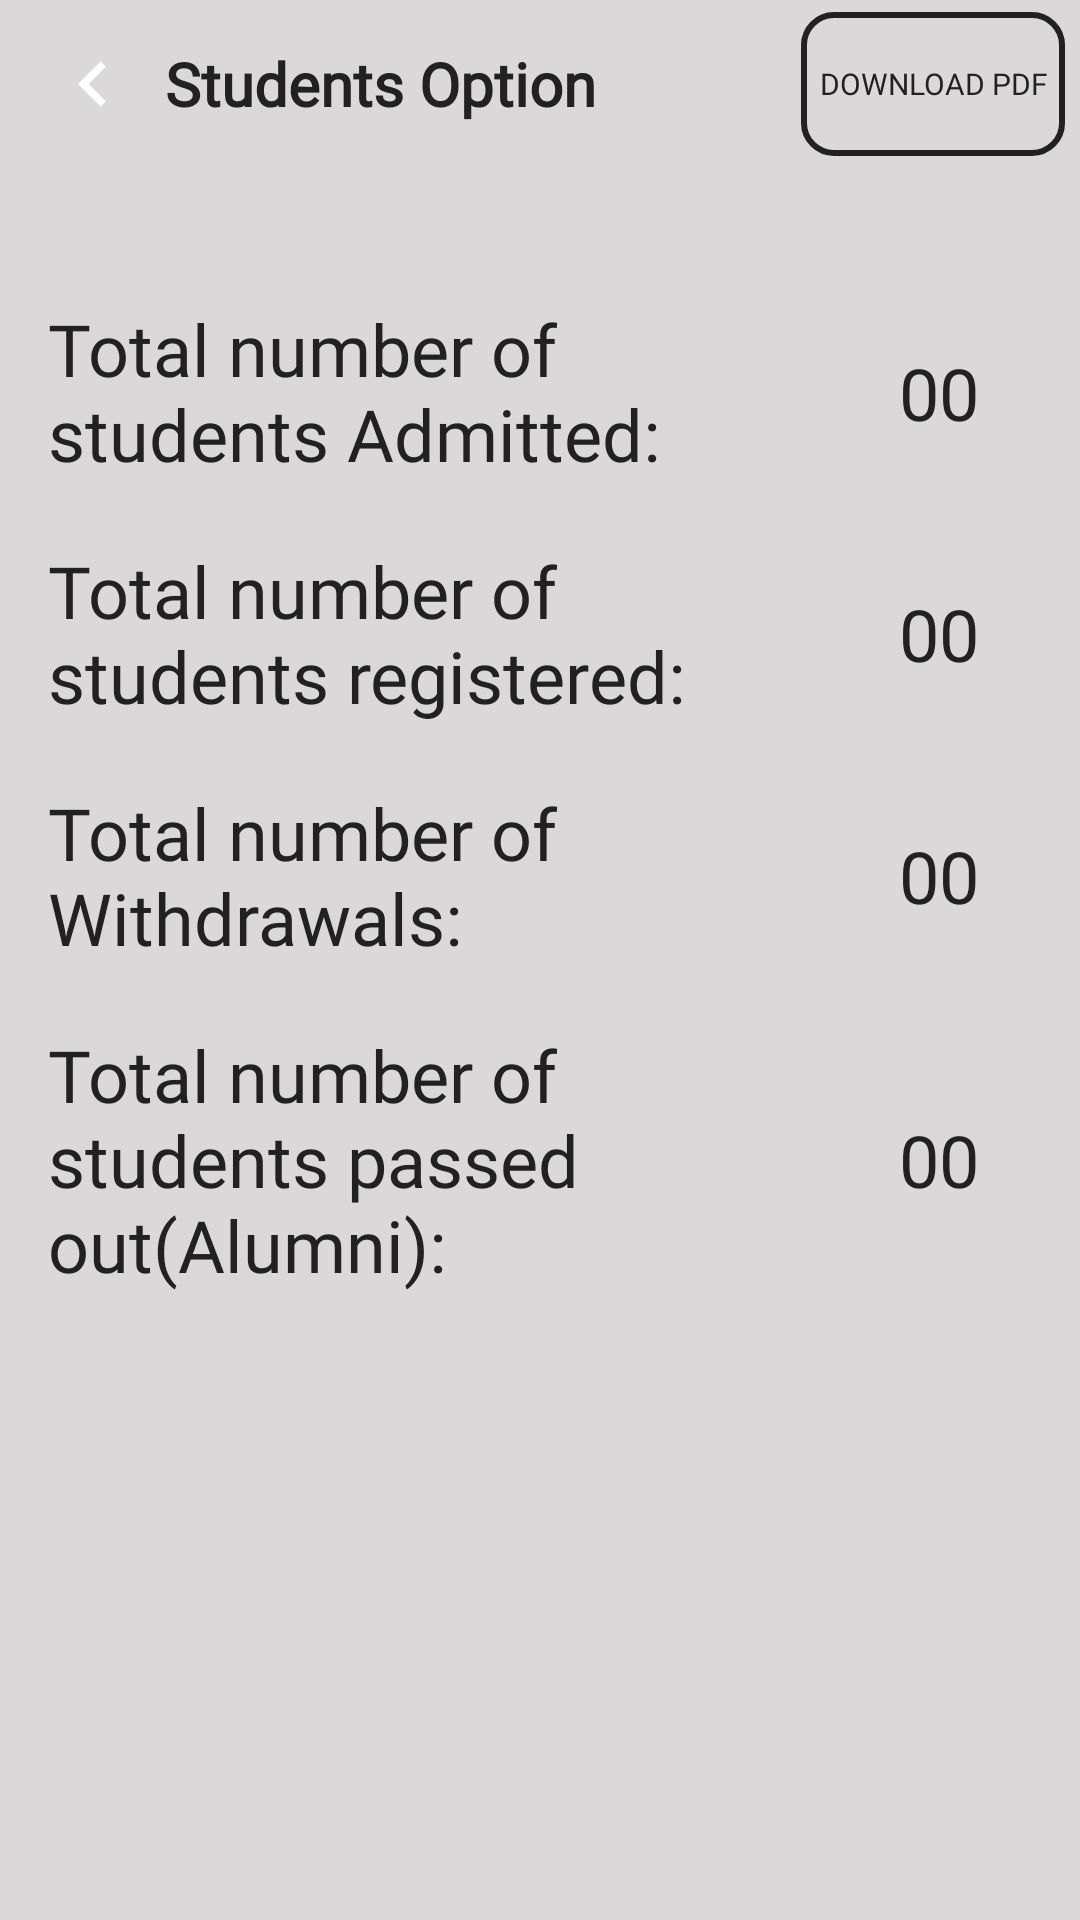

Named icons in this screenshot (1080px x 1920px) and their bounding boxes, (x1, y1, x2, y2):
back: (79, 62, 105, 106)
